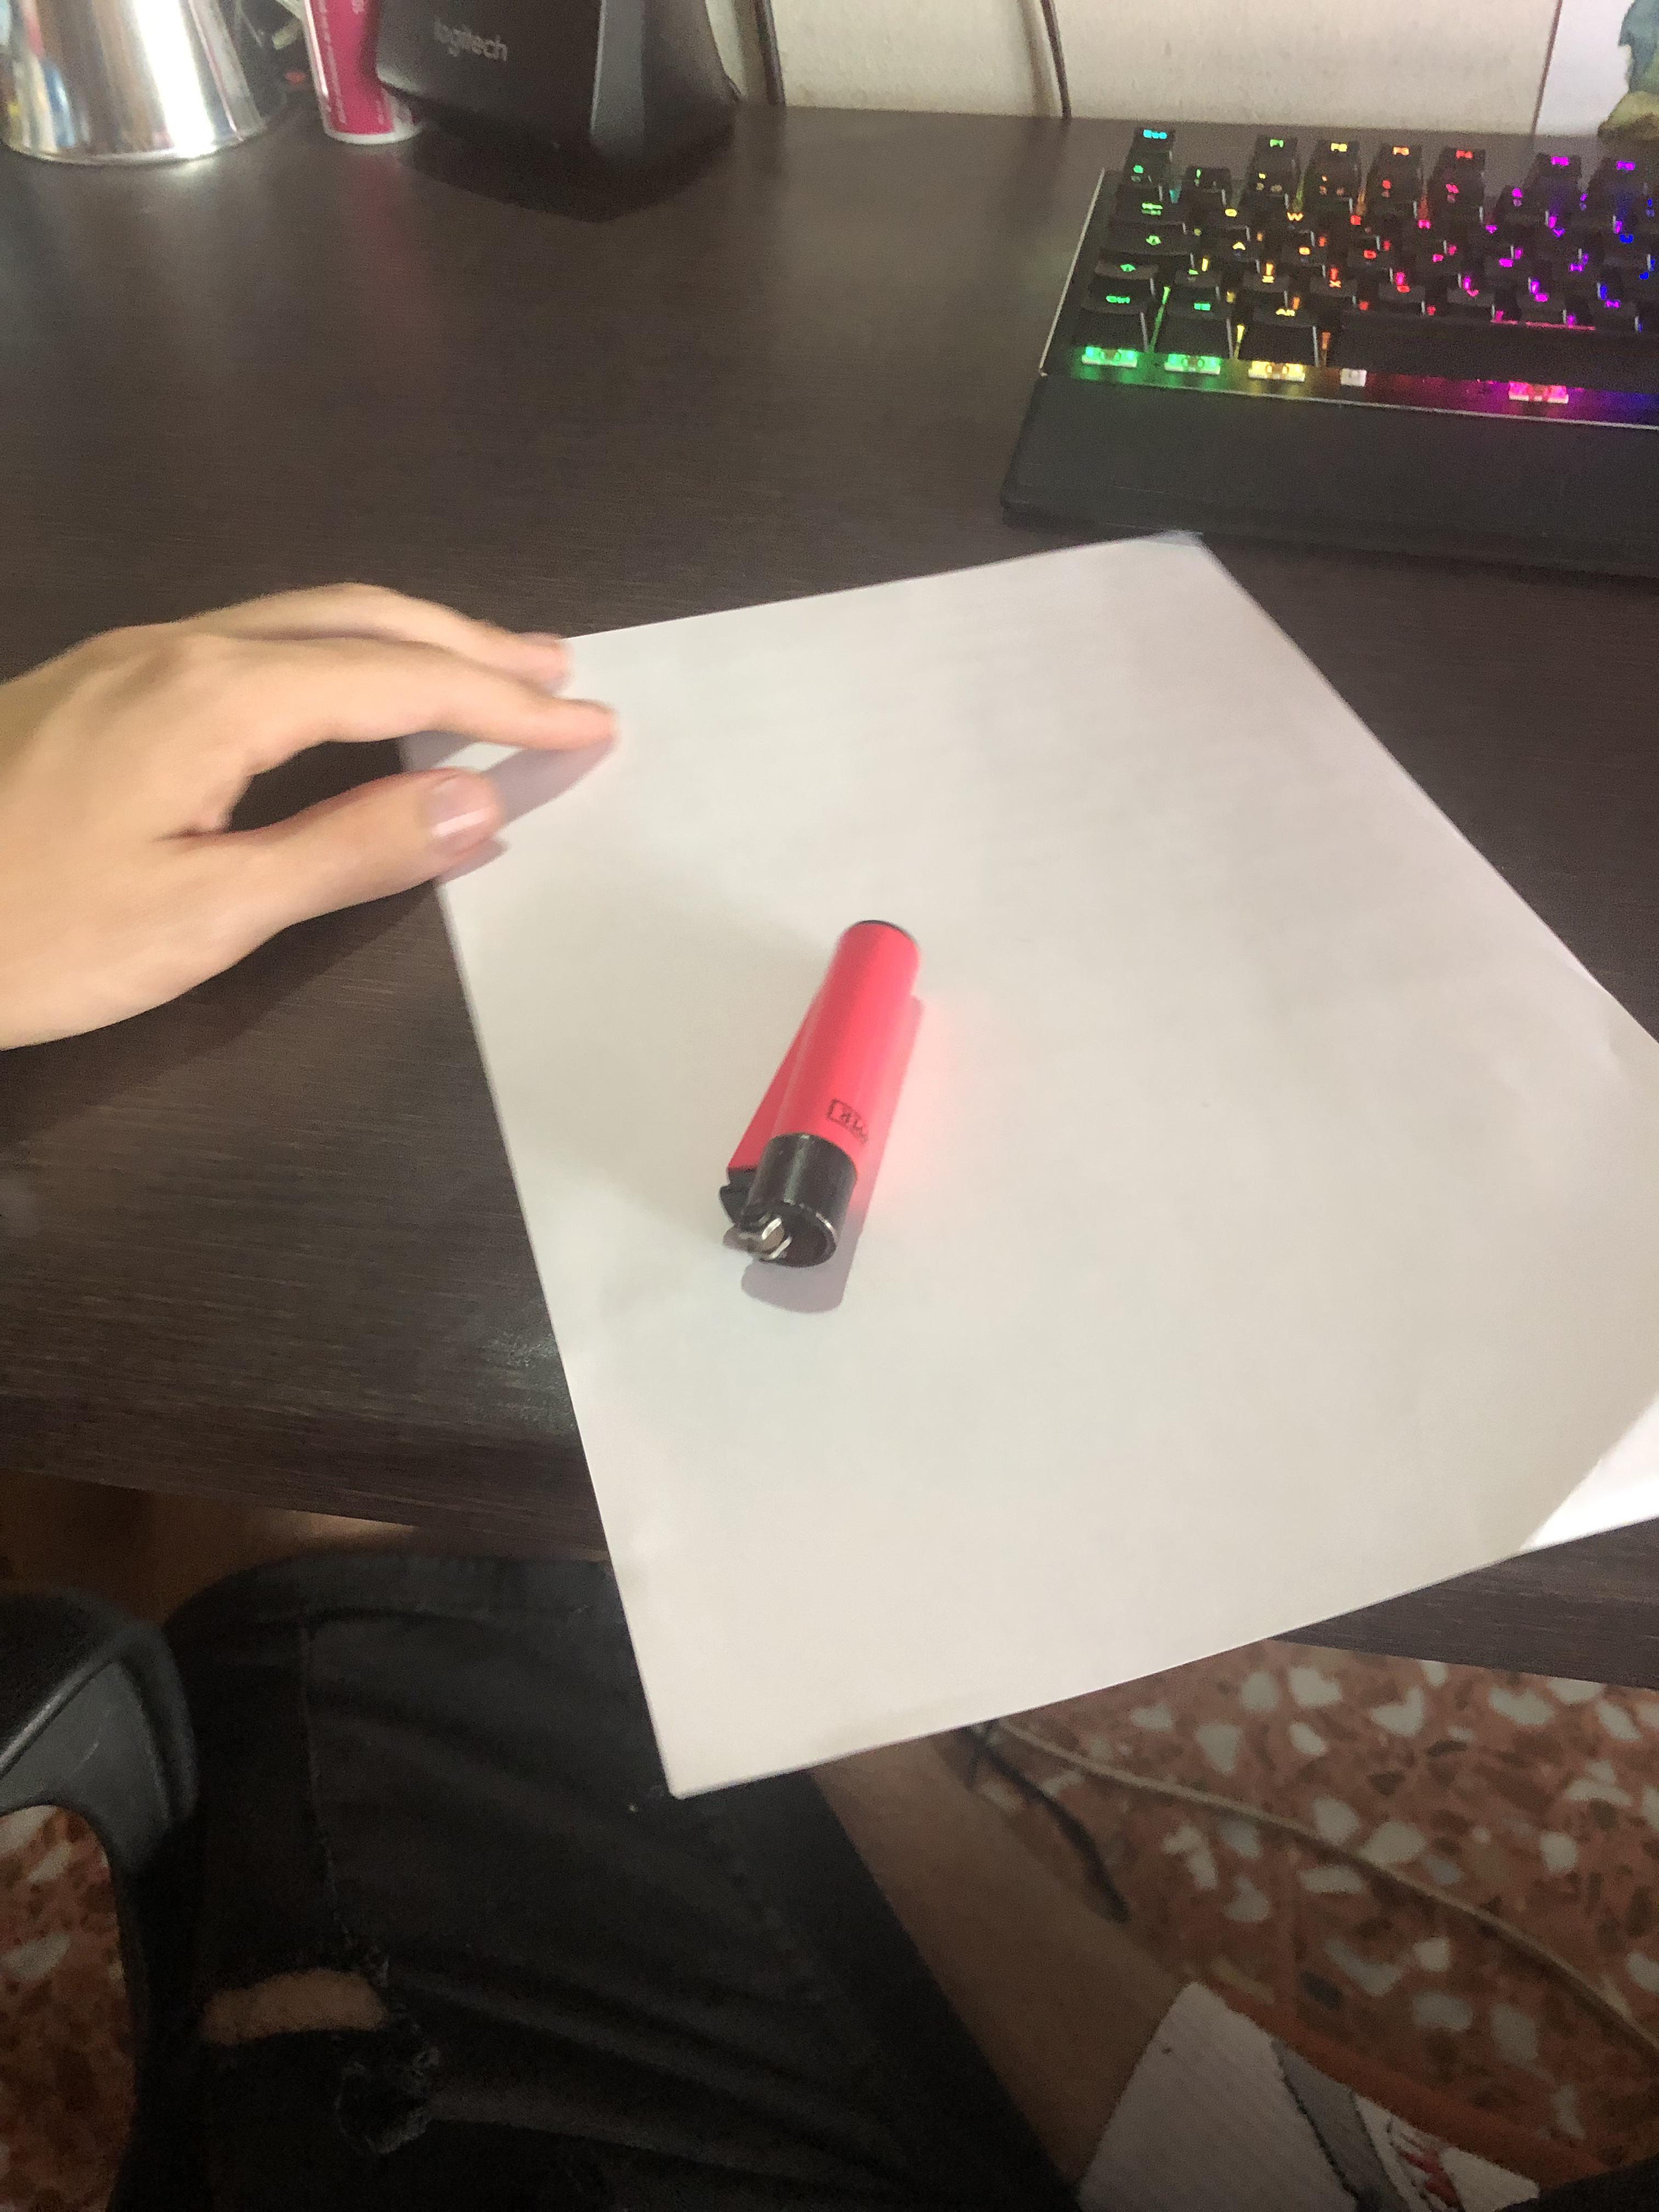Mechero: (716, 902, 939, 1310)
